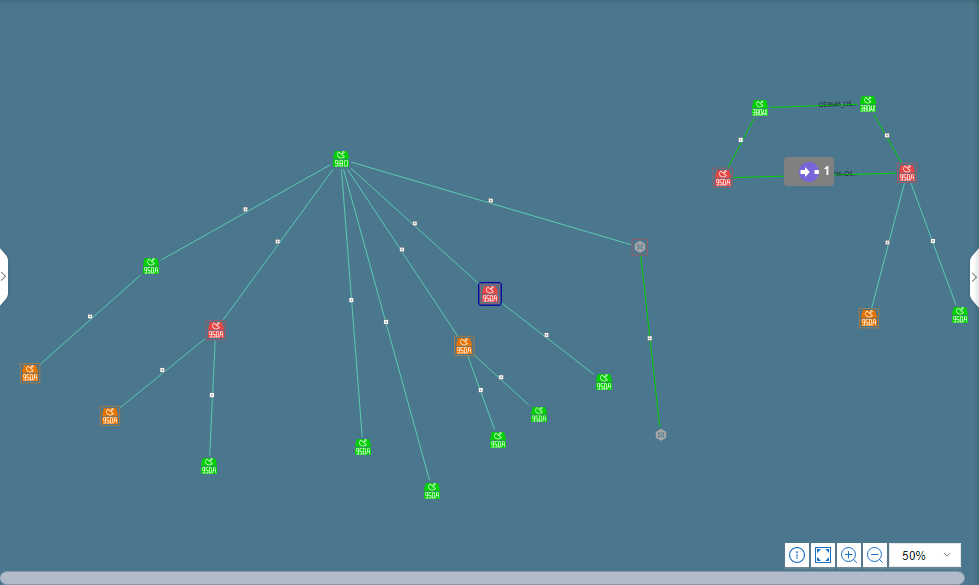ATN_Orange: (101, 406, 124, 429), (21, 363, 44, 386)
ATN_Red: (713, 167, 736, 190), (480, 283, 503, 306), (205, 320, 228, 343), (896, 167, 919, 184)
Link_Blue: (346, 190, 436, 484), (359, 161, 626, 242), (346, 167, 460, 337), (346, 176, 456, 332), (162, 161, 327, 263), (223, 178, 327, 314), (352, 167, 473, 277), (40, 271, 141, 358), (340, 196, 369, 435), (909, 185, 962, 302), (499, 302, 589, 369), (119, 338, 199, 410), (872, 185, 904, 292), (474, 357, 534, 410), (467, 360, 494, 429), (468, 366, 494, 429), (211, 338, 222, 349)
Link_Green: (639, 266, 668, 444), (639, 259, 664, 442), (872, 112, 907, 166), (725, 118, 753, 172), (768, 100, 855, 110), (731, 173, 779, 184)
RTN_Green: (199, 461, 222, 478), (358, 436, 375, 459), (529, 406, 552, 423), (333, 149, 350, 172), (493, 430, 509, 453), (425, 485, 442, 502), (144, 259, 161, 274), (597, 375, 613, 390), (951, 308, 967, 323)
RTN_Orange: (456, 338, 471, 354)
